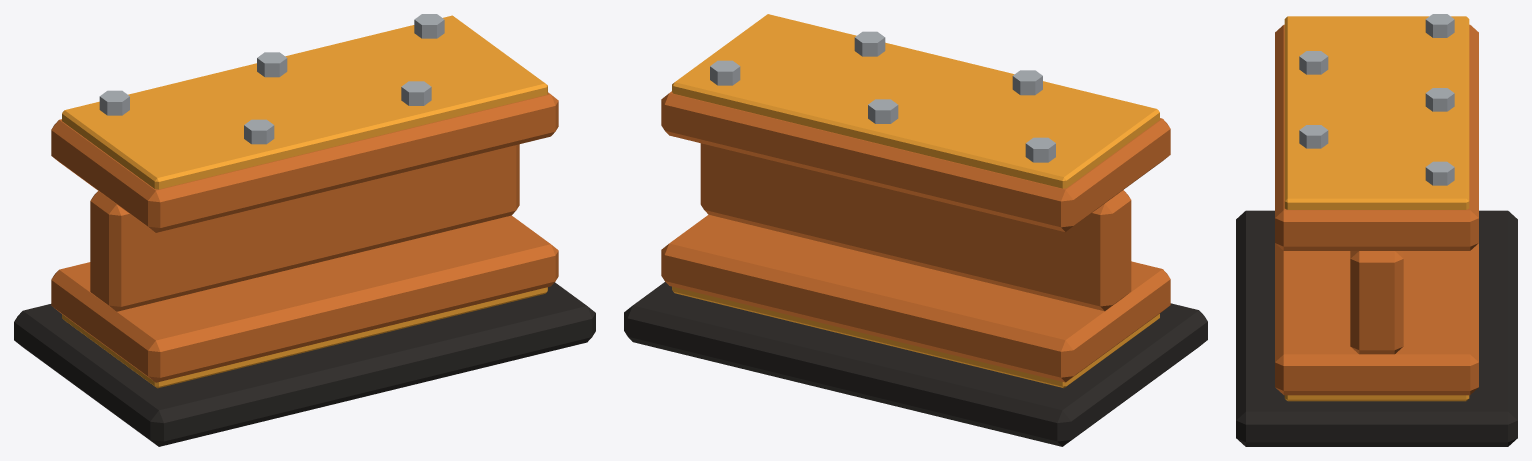
File: fittings.glb
3 views of the same model, side by side, from view 1: azimuth 30°, elevation 25°; view 2: azimuth 150°, elevation 25°; view 3: azimuth 270°, elevation 25° (orthographic). The views are drawn at different scales.
Parts seen in each view (by area): view 1: fittings-bright-top-wear, fittings-rust-ibeam-bottom, fittings-black-pallet, fittings-rust-ibeam-web, fittings-rust-ibeam-top, fittings-bright-bottom-wear, fittings-top-rivet-0, fittings-top-rivet-1, fittings-top-rivet-2, fittings-top-rivet-3, fittings-top-rivet-4; view 2: fittings-bright-top-wear, fittings-rust-ibeam-bottom, fittings-black-pallet, fittings-rust-ibeam-web, fittings-rust-ibeam-top, fittings-bright-bottom-wear, fittings-top-rivet-3, fittings-top-rivet-0, fittings-top-rivet-1, fittings-top-rivet-4, fittings-top-rivet-2; view 3: fittings-bright-top-wear, fittings-black-pallet, fittings-rust-ibeam-bottom, fittings-rust-ibeam-top, fittings-rust-ibeam-web, fittings-bright-bottom-wear, fittings-top-rivet-4, fittings-top-rivet-0, fittings-top-rivet-1, fittings-top-rivet-3, fittings-top-rivet-2.
Boxes of the visible parts, x1,y1,x2,y2 form: fittings-bright-top-wear: (62, 15, 547, 189); fittings-rust-ibeam-bottom: (51, 215, 558, 382); fittings-black-pallet: (14, 282, 595, 446); fittings-rust-ibeam-web: (90, 144, 519, 311); fittings-rust-ibeam-top: (51, 92, 558, 232); fittings-bright-bottom-wear: (62, 287, 547, 388); fittings-top-rivet-0: (99, 90, 129, 115); fittings-top-rivet-1: (244, 119, 274, 144); fittings-top-rivet-2: (257, 52, 287, 77); fittings-top-rivet-3: (401, 81, 431, 105); fittings-top-rivet-4: (414, 14, 444, 38); fittings-bright-top-wear: (672, 14, 1159, 188); fittings-rust-ibeam-bottom: (661, 214, 1170, 382); fittings-black-pallet: (624, 282, 1207, 446); fittings-rust-ibeam-web: (700, 143, 1131, 311); fittings-rust-ibeam-top: (661, 91, 1170, 231); fittings-bright-bottom-wear: (672, 286, 1159, 387); fittings-top-rivet-3: (854, 31, 885, 56); fittings-top-rivet-0: (1025, 137, 1055, 162); fittings-top-rivet-1: (1012, 70, 1042, 95); fittings-top-rivet-4: (710, 60, 740, 85); fittings-top-rivet-2: (868, 99, 898, 123); fittings-bright-top-wear: (1284, 16, 1469, 209); fittings-black-pallet: (1236, 210, 1517, 446); fittings-rust-ibeam-bottom: (1275, 243, 1478, 395); fittings-rust-ibeam-top: (1275, 24, 1478, 250); fittings-rust-ibeam-web: (1350, 251, 1403, 354); fittings-bright-bottom-wear: (1284, 395, 1469, 401); fittings-top-rivet-4: (1425, 161, 1454, 185); fittings-top-rivet-0: (1425, 14, 1454, 37); fittings-top-rivet-1: (1299, 51, 1328, 74); fittings-top-rivet-3: (1299, 125, 1328, 148); fittings-top-rivet-2: (1425, 88, 1454, 111).
Size of the model in its own units: 1.77 by 1 by 1.01.
